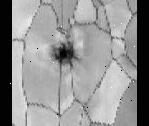good_void: (53, 39, 77, 65)
